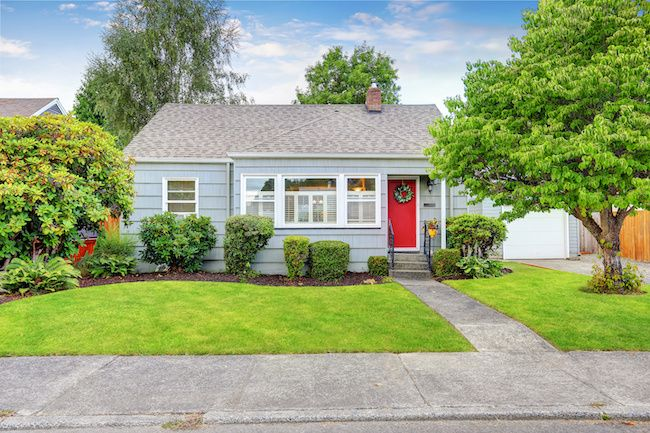bush: (136, 215, 220, 275), (445, 215, 507, 274), (282, 238, 353, 281), (224, 216, 275, 274)
tree: (427, 4, 650, 295), (2, 113, 135, 285)
